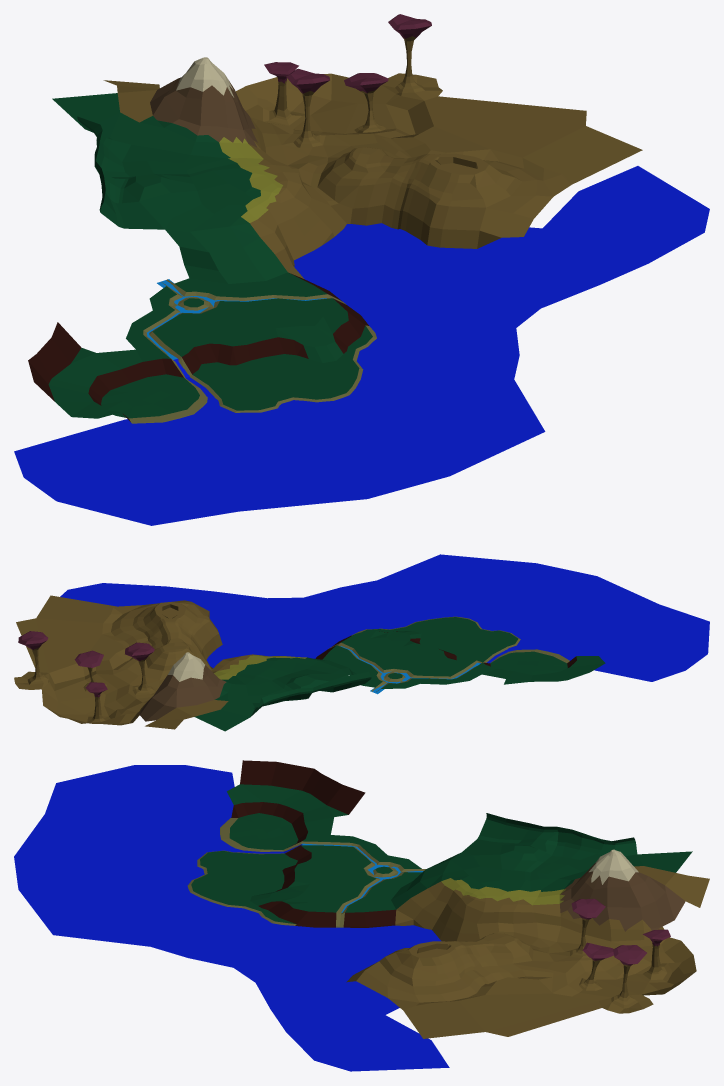
Rendered from map.obj.
3 renders of one model, top to bottom at view 1: azimuth 30°, elevation 25°; view 2: azimuth 150°, elevation 25°; view 3: azimuth 270°, elevation 25°, orthographic. The views are drawn at different scales.
Visible parts, largest first — view 1: Plane.014, Plane.001; view 2: Plane.014, Plane.001, Plane.002; view 3: Plane.014, Plane.001.
Boxes of the visible parts, x1,y1,x2,y2 form: Plane.014: [28, 14, 642, 423]; Plane.001: [14, 166, 709, 525]; Plane.014: [14, 595, 605, 731]; Plane.001: [60, 554, 709, 681]; Plane.002: [340, 646, 480, 694]; Plane.014: [187, 760, 709, 1038]; Plane.001: [14, 765, 449, 1071].
Bounding box in the file's own units: 962 × 159 × 923.
